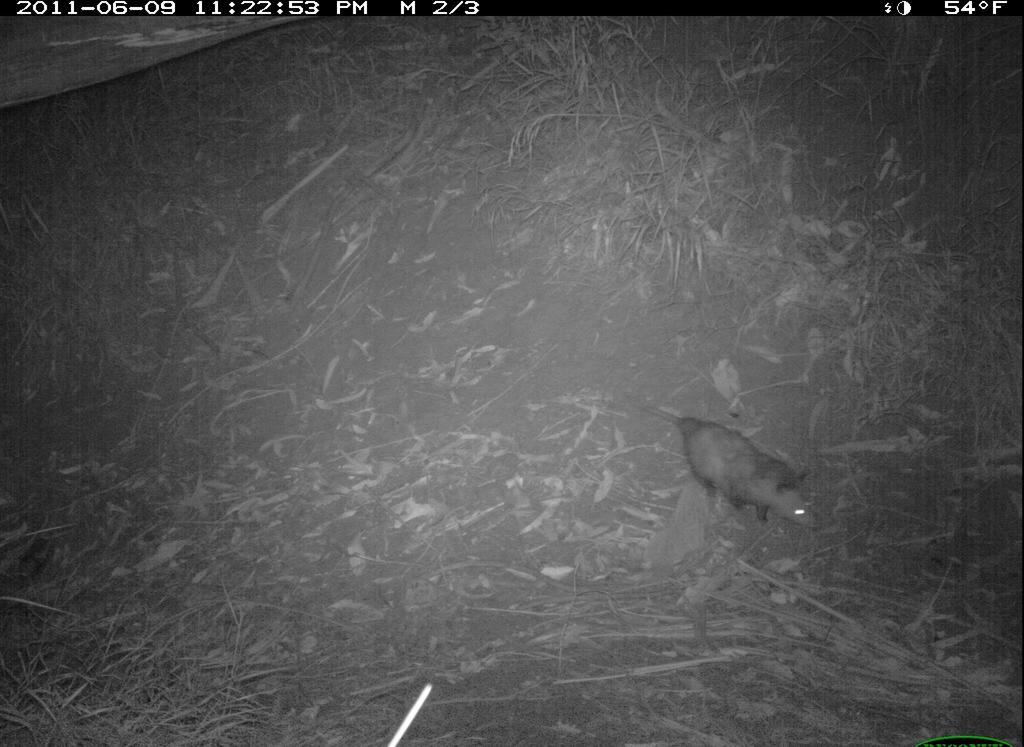opossum: (625, 387, 829, 543)
